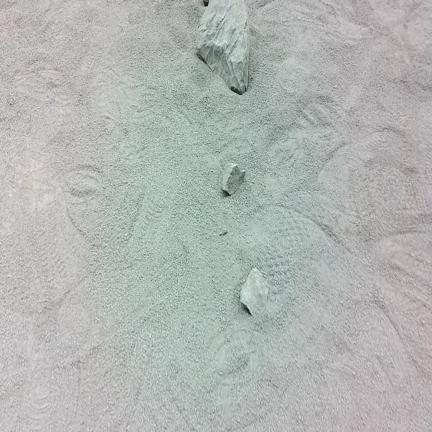Rock: (197, 0, 249, 94), (240, 268, 269, 315), (222, 163, 245, 195)
